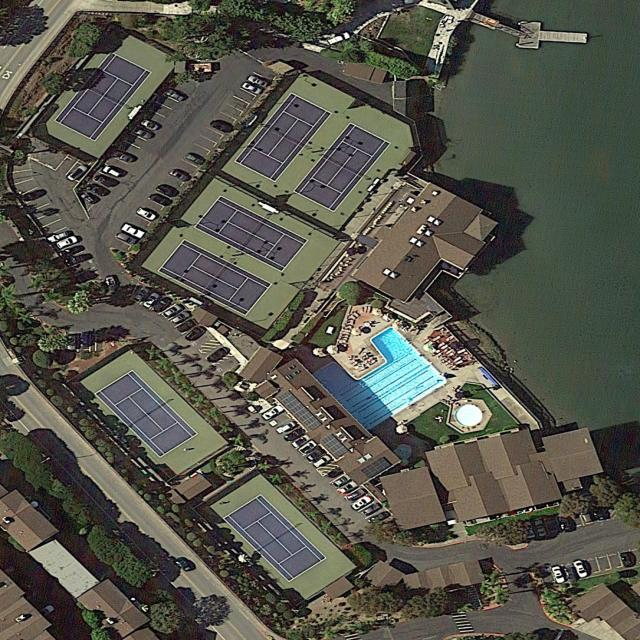small-vehicle: (204, 346, 231, 366), (84, 181, 111, 199), (58, 243, 86, 260), (120, 222, 146, 240), (64, 252, 91, 269), (183, 325, 208, 343), (21, 188, 49, 204), (175, 317, 199, 335), (77, 189, 101, 207), (150, 296, 172, 315), (209, 119, 235, 135), (66, 164, 89, 182), (262, 404, 285, 421), (150, 192, 173, 209), (240, 81, 264, 97), (92, 173, 116, 189), (131, 126, 155, 142), (172, 556, 193, 574), (137, 118, 162, 133), (247, 73, 270, 89), (168, 167, 191, 183), (56, 235, 80, 250), (556, 513, 573, 534), (304, 447, 326, 463), (136, 207, 158, 223), (113, 149, 135, 165), (327, 32, 352, 46), (47, 230, 70, 245), (115, 231, 138, 246), (34, 604, 55, 620), (284, 428, 306, 443), (275, 420, 297, 435), (161, 304, 183, 319), (183, 152, 205, 167), (352, 496, 373, 511), (297, 440, 318, 455), (522, 520, 537, 541), (368, 511, 390, 525), (156, 184, 178, 198), (164, 88, 186, 102), (143, 292, 161, 309), (133, 286, 150, 304), (619, 550, 636, 568), (573, 560, 589, 579), (332, 474, 352, 489), (291, 434, 311, 449), (171, 311, 192, 325), (534, 518, 548, 539), (344, 489, 366, 502), (339, 481, 359, 495), (552, 566, 566, 585), (313, 455, 332, 469), (362, 503, 382, 516), (103, 166, 123, 179), (65, 332, 77, 351), (79, 332, 91, 349)
